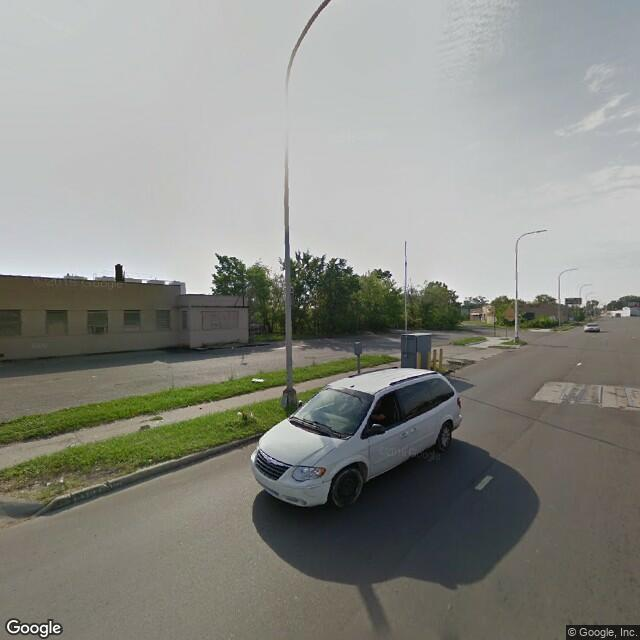litter: (39, 478, 65, 489), (248, 375, 269, 384), (232, 407, 247, 419)
